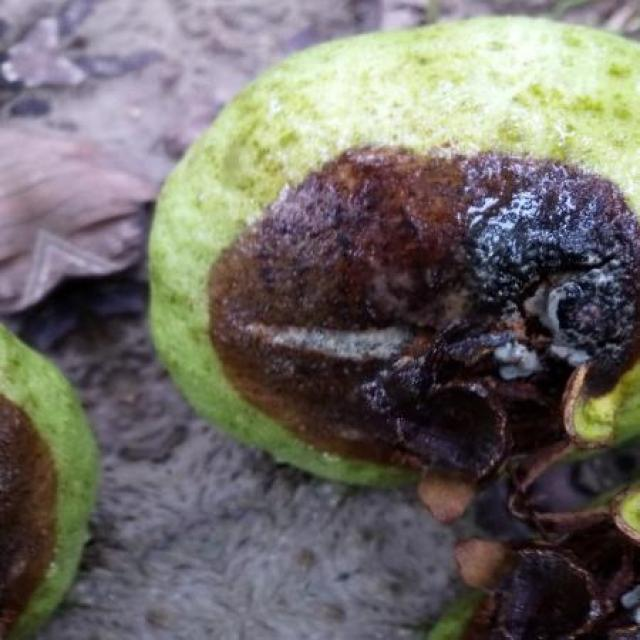Styler and Root: (150, 19, 640, 640), (0, 325, 98, 639)
